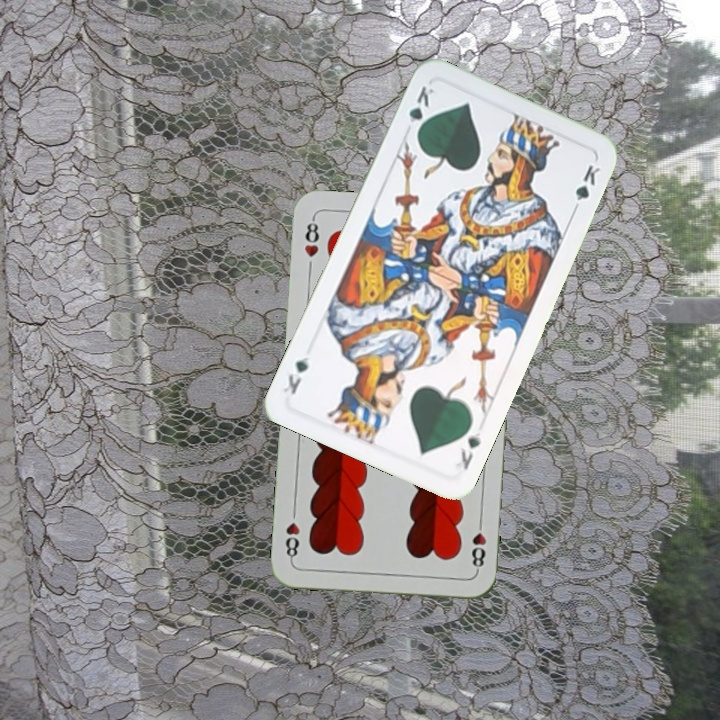GK: (405, 81, 437, 139), (456, 426, 484, 473)
H8: (467, 515, 489, 574), (300, 214, 322, 260)
